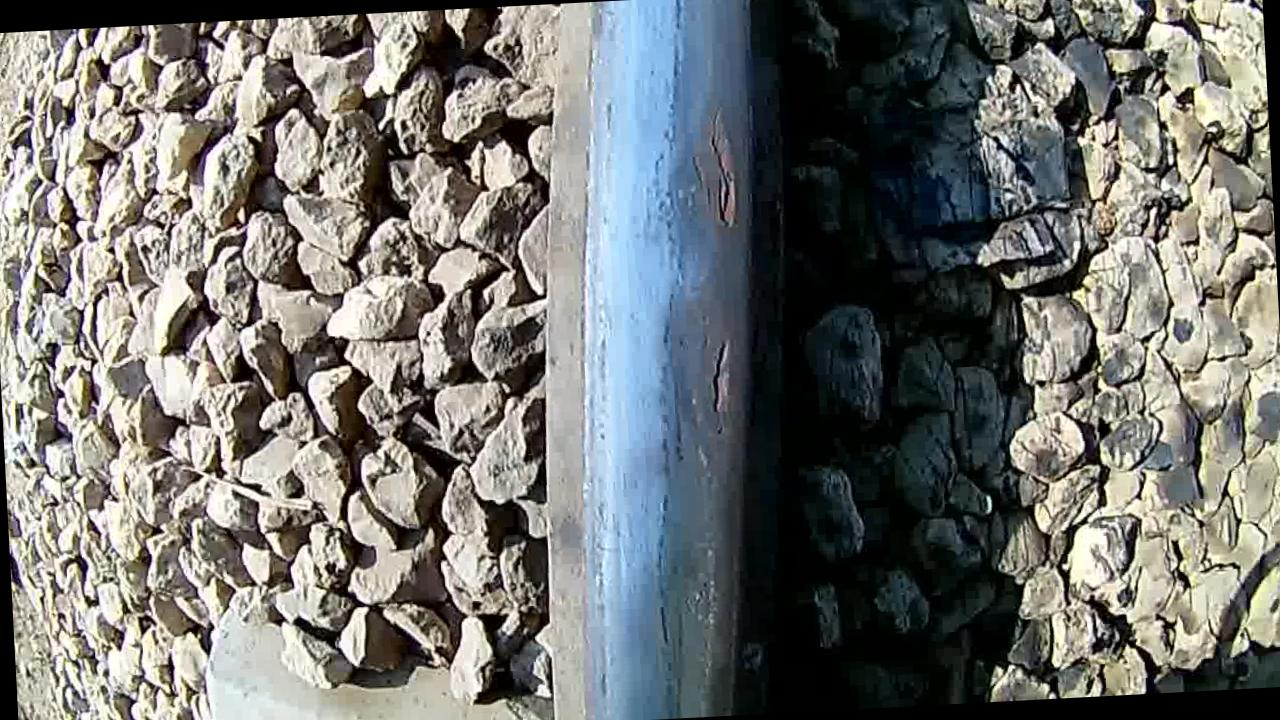crack: (561, 0, 778, 634)
